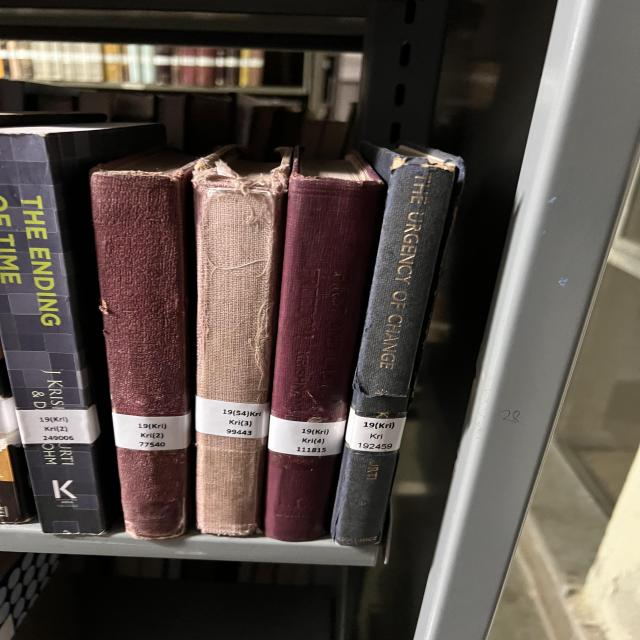Book: (0, 124, 165, 535), (332, 142, 463, 545), (265, 151, 385, 541), (90, 150, 195, 539), (192, 146, 292, 536)
Label: (17, 405, 100, 444), (195, 396, 270, 439), (268, 415, 345, 456), (112, 412, 192, 451), (345, 408, 405, 452)
